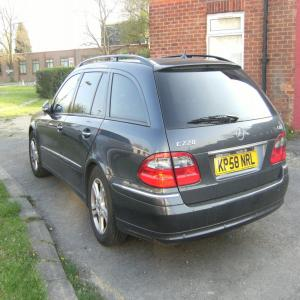Vehicle-registration-plate: (215, 151, 260, 177)
